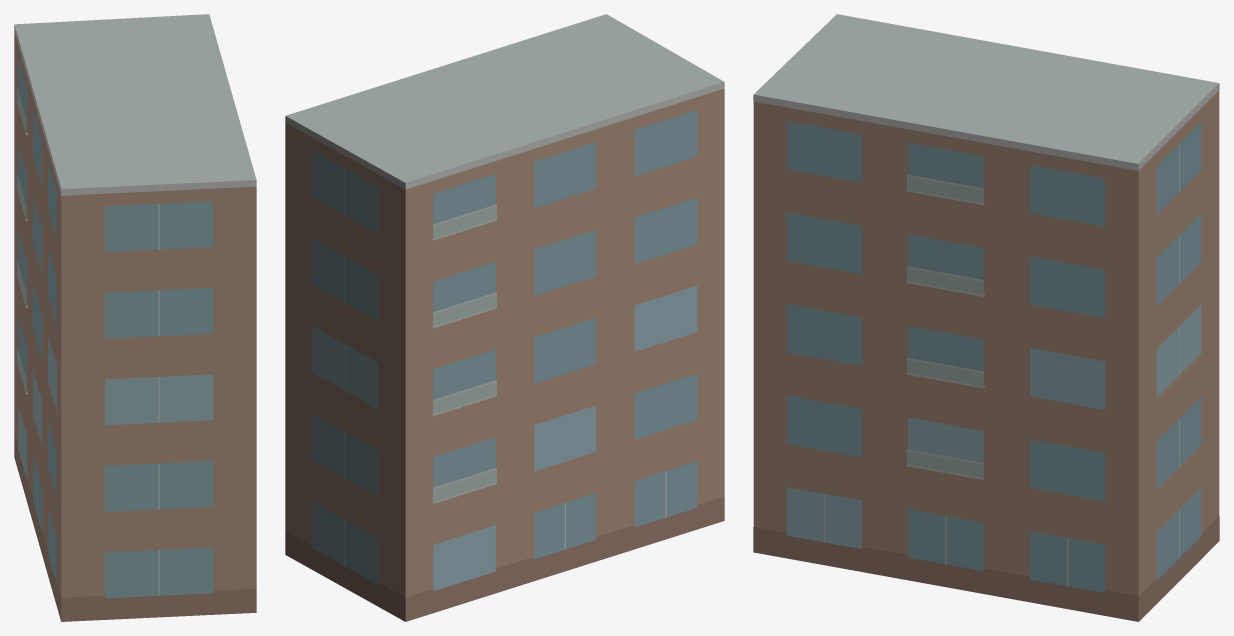
The model's file is survey-upis-33039563.glb.
The picture shows the model from 3 angles, left to right: view 1: azimuth 30°, elevation 25°; view 2: azimuth 150°, elevation 25°; view 3: azimuth 270°, elevation 25°; orthographic projection. The views are drawn at different scales.
Parts seen in each view (by area): view 1: survey-upis-33039563.tmp; view 2: survey-upis-33039563.tmp; view 3: survey-upis-33039563.tmp.
Part boxes in pixels (bbox=[...]): survey-upis-33039563.tmp: bbox=[14, 14, 256, 621]; survey-upis-33039563.tmp: bbox=[285, 14, 724, 621]; survey-upis-33039563.tmp: bbox=[753, 14, 1219, 621].
Size of the model in its own units: 11.39 by 16.2 by 14.95.
